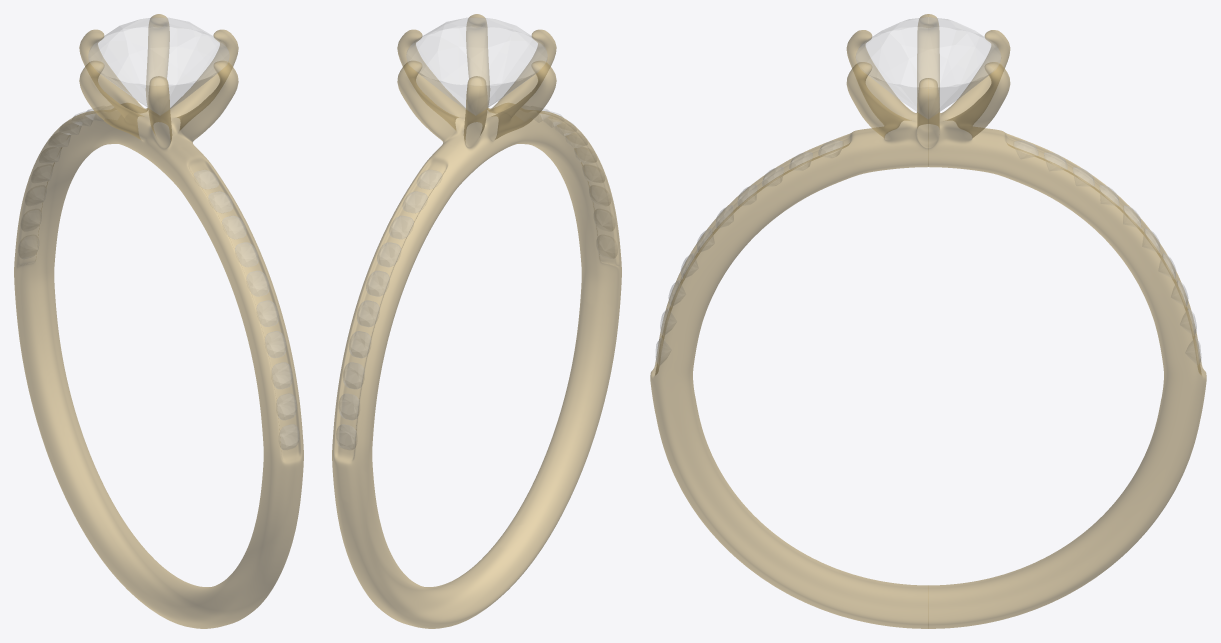
3 views of the same model, side by side, from view 1: azimuth 30°, elevation 25°; view 2: azimuth 150°, elevation 25°; view 3: azimuth 270°, elevation 25° (orthographic). The views are drawn at different scales.
Visible parts, largest first — view 1: Ring, Diamond; view 2: Ring, Diamond; view 3: Ring, Diamond.
Boxes of the visible parts, x1,y1,x2,y2 form: Ring: (14,14,303,628); Diamond: (18,18,299,449); Ring: (332,14,621,628); Diamond: (336,18,617,449); Ring: (650,14,1206,628); Diamond: (655,17,1201,364).
Bounding box in the file's own units: 0.7771 × 2.75 × 2.34.
